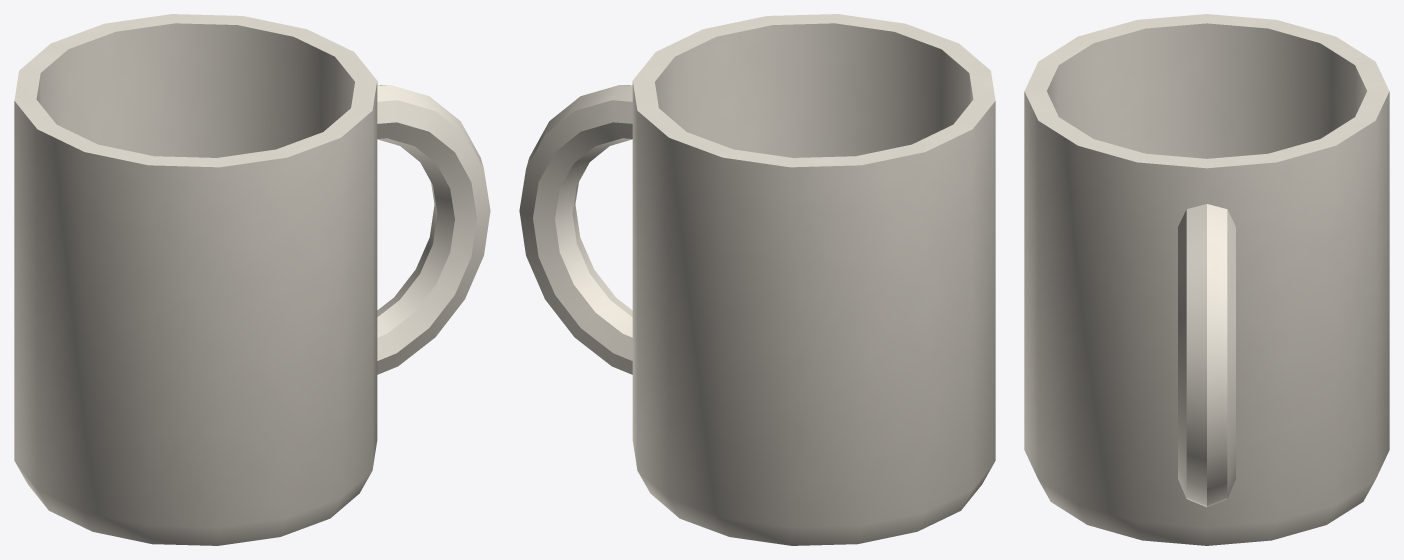
Rendered from SM_Mug.fbx.
The picture shows the model from 3 angles, left to right: view 1: azimuth 30°, elevation 25°; view 2: azimuth 150°, elevation 25°; view 3: azimuth 270°, elevation 25°; orthographic projection.
Visible parts, largest first — view 1: SM_Mug; view 2: SM_Mug; view 3: SM_Mug.
Boxes of the visible parts, bbox=[...] form: SM_Mug: bbox=[14, 14, 490, 545]; SM_Mug: bbox=[519, 14, 995, 545]; SM_Mug: bbox=[1024, 14, 1389, 545].
Size of the model in its own units: 0.1165 by 0.095 by 0.082.
Materials: 1 (1 with a texture image).
